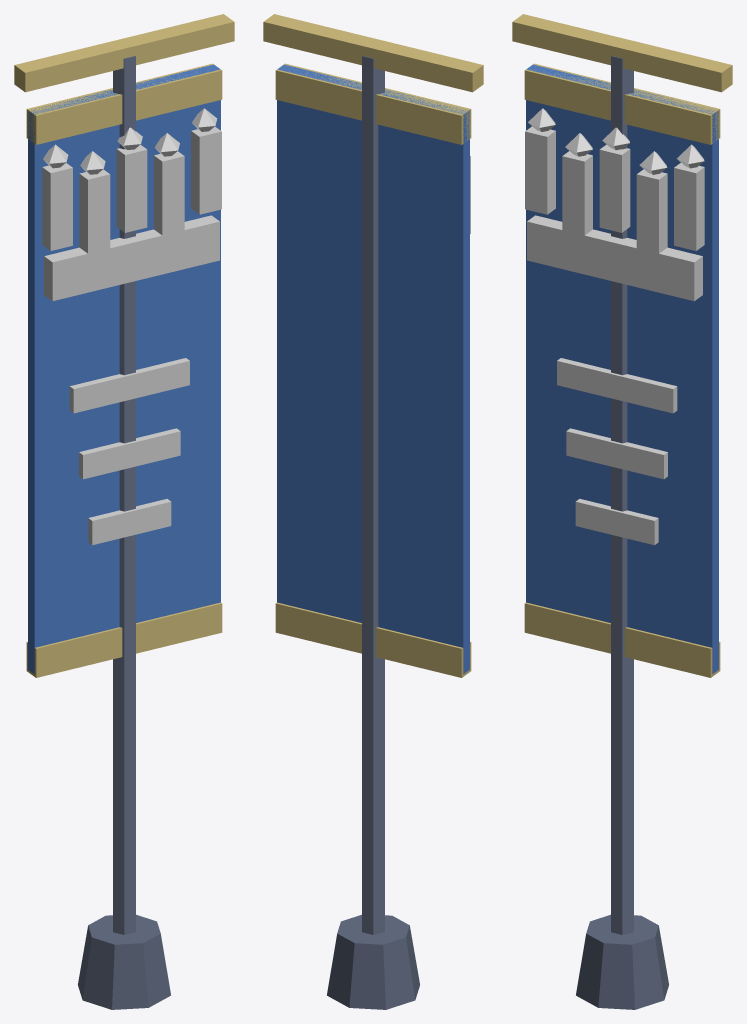
Rendered from banner_pole.glb.
3 views of the same model, side by side, from view 1: azimuth 30°, elevation 25°; view 2: azimuth 150°, elevation 25°; view 3: azimuth 330°, elevation 25° (orthographic).
Bounding box in the file's own units: 0.9 × 3.89 × 0.36.
